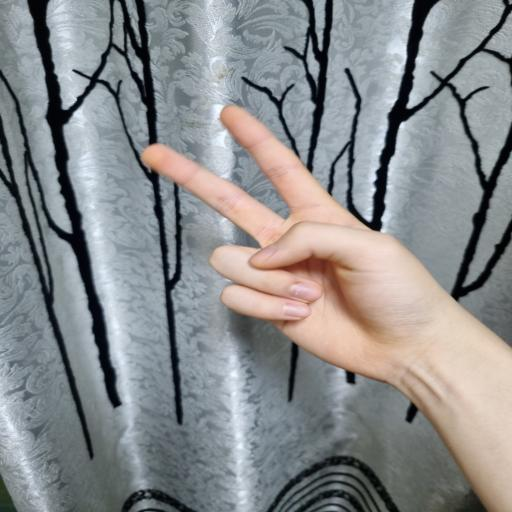Scissors: (141, 103, 451, 390)
